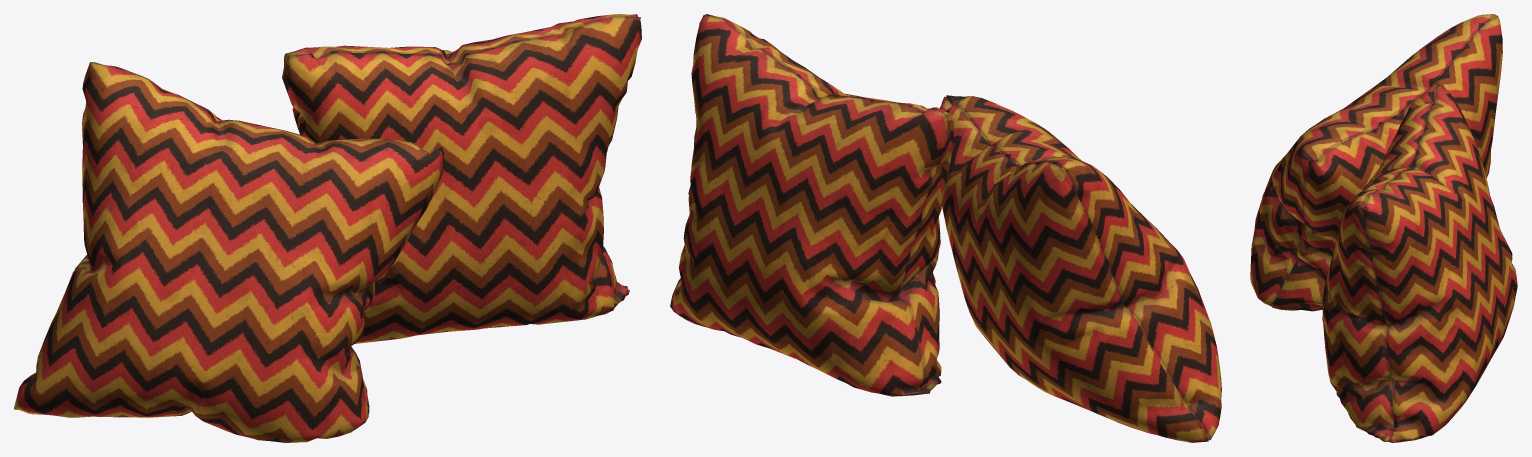
The model's file is throw_pillows_01.glb.
3 views of the same model, side by side, from view 1: azimuth 30°, elevation 25°; view 2: azimuth 150°, elevation 25°; view 3: azimuth 270°, elevation 25° (orthographic). The views are drawn at different scales.
Parts seen in each view (by area): view 1: throw_pillows_01_pillow02; view 2: throw_pillows_01_pillow02; view 3: throw_pillows_01_pillow02.
Part boxes in pixels (<box>): throw_pillows_01_pillow02: <box>14,14,641,442</box>; throw_pillows_01_pillow02: <box>670,14,1221,442</box>; throw_pillows_01_pillow02: <box>1250,14,1517,442</box>.
Bounding box in the file's own units: 0.9401 × 0.4502 × 0.4519.
Materials: 1 (1 with a texture image).
